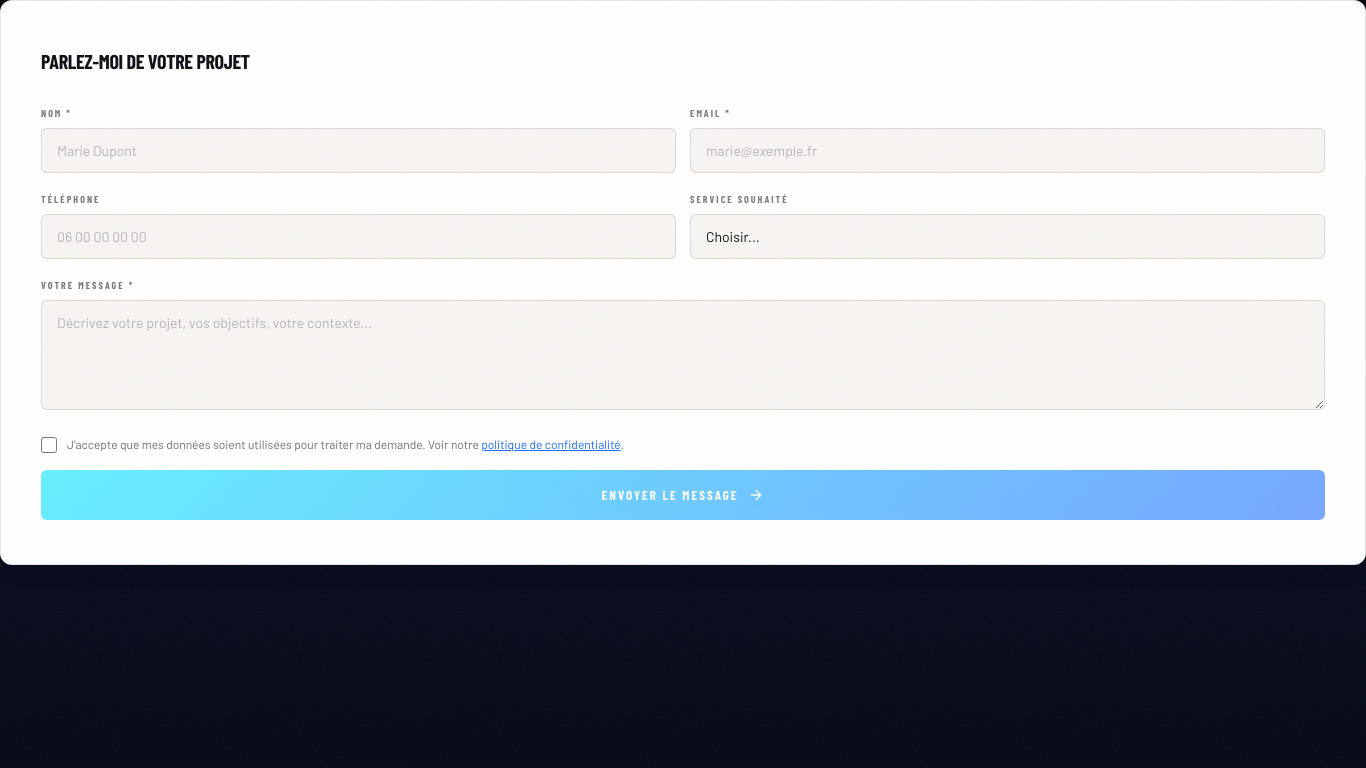
Scenario: ContactForm › ouvre la modal confidentialité depuis le formulaire
Step 1. Click the button "politique de confidentialité" → (551, 444), box [481,435,621,454]
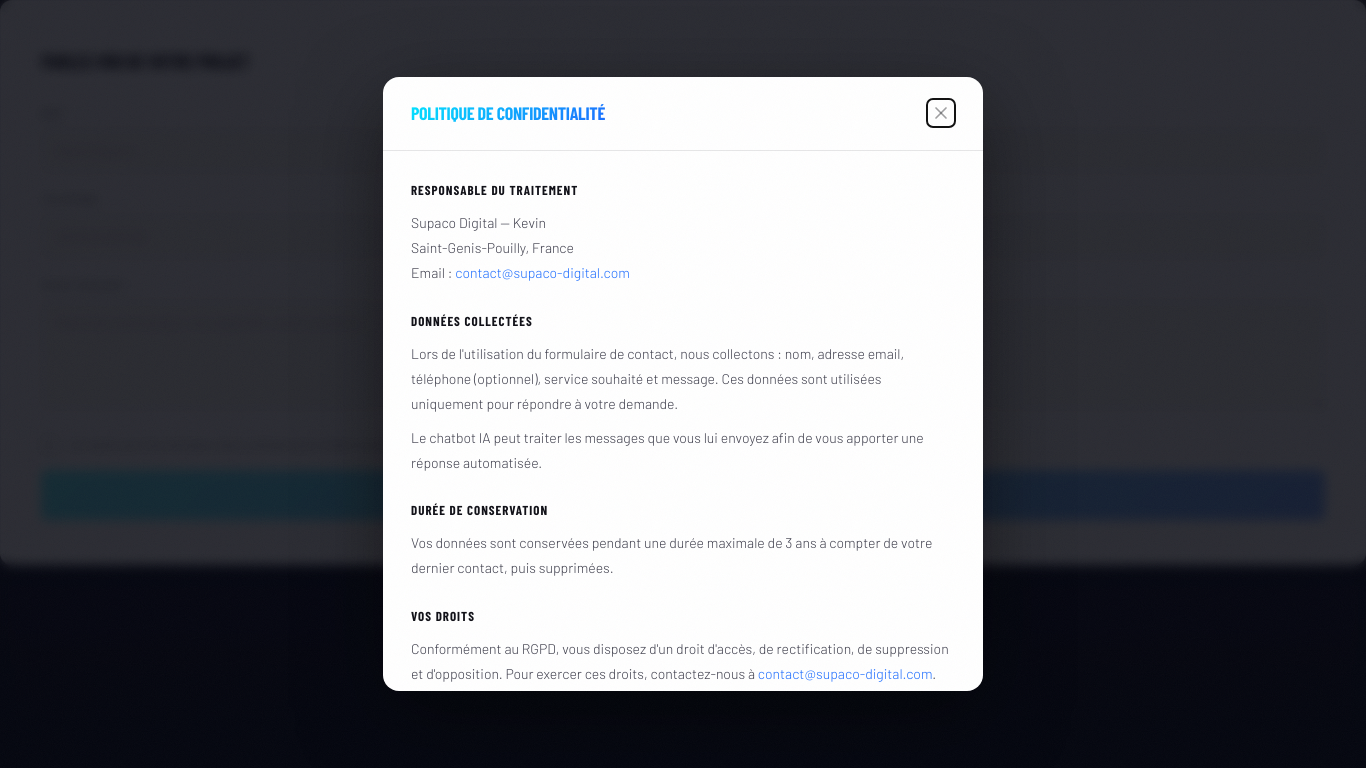
Expected: the dialog is shown
